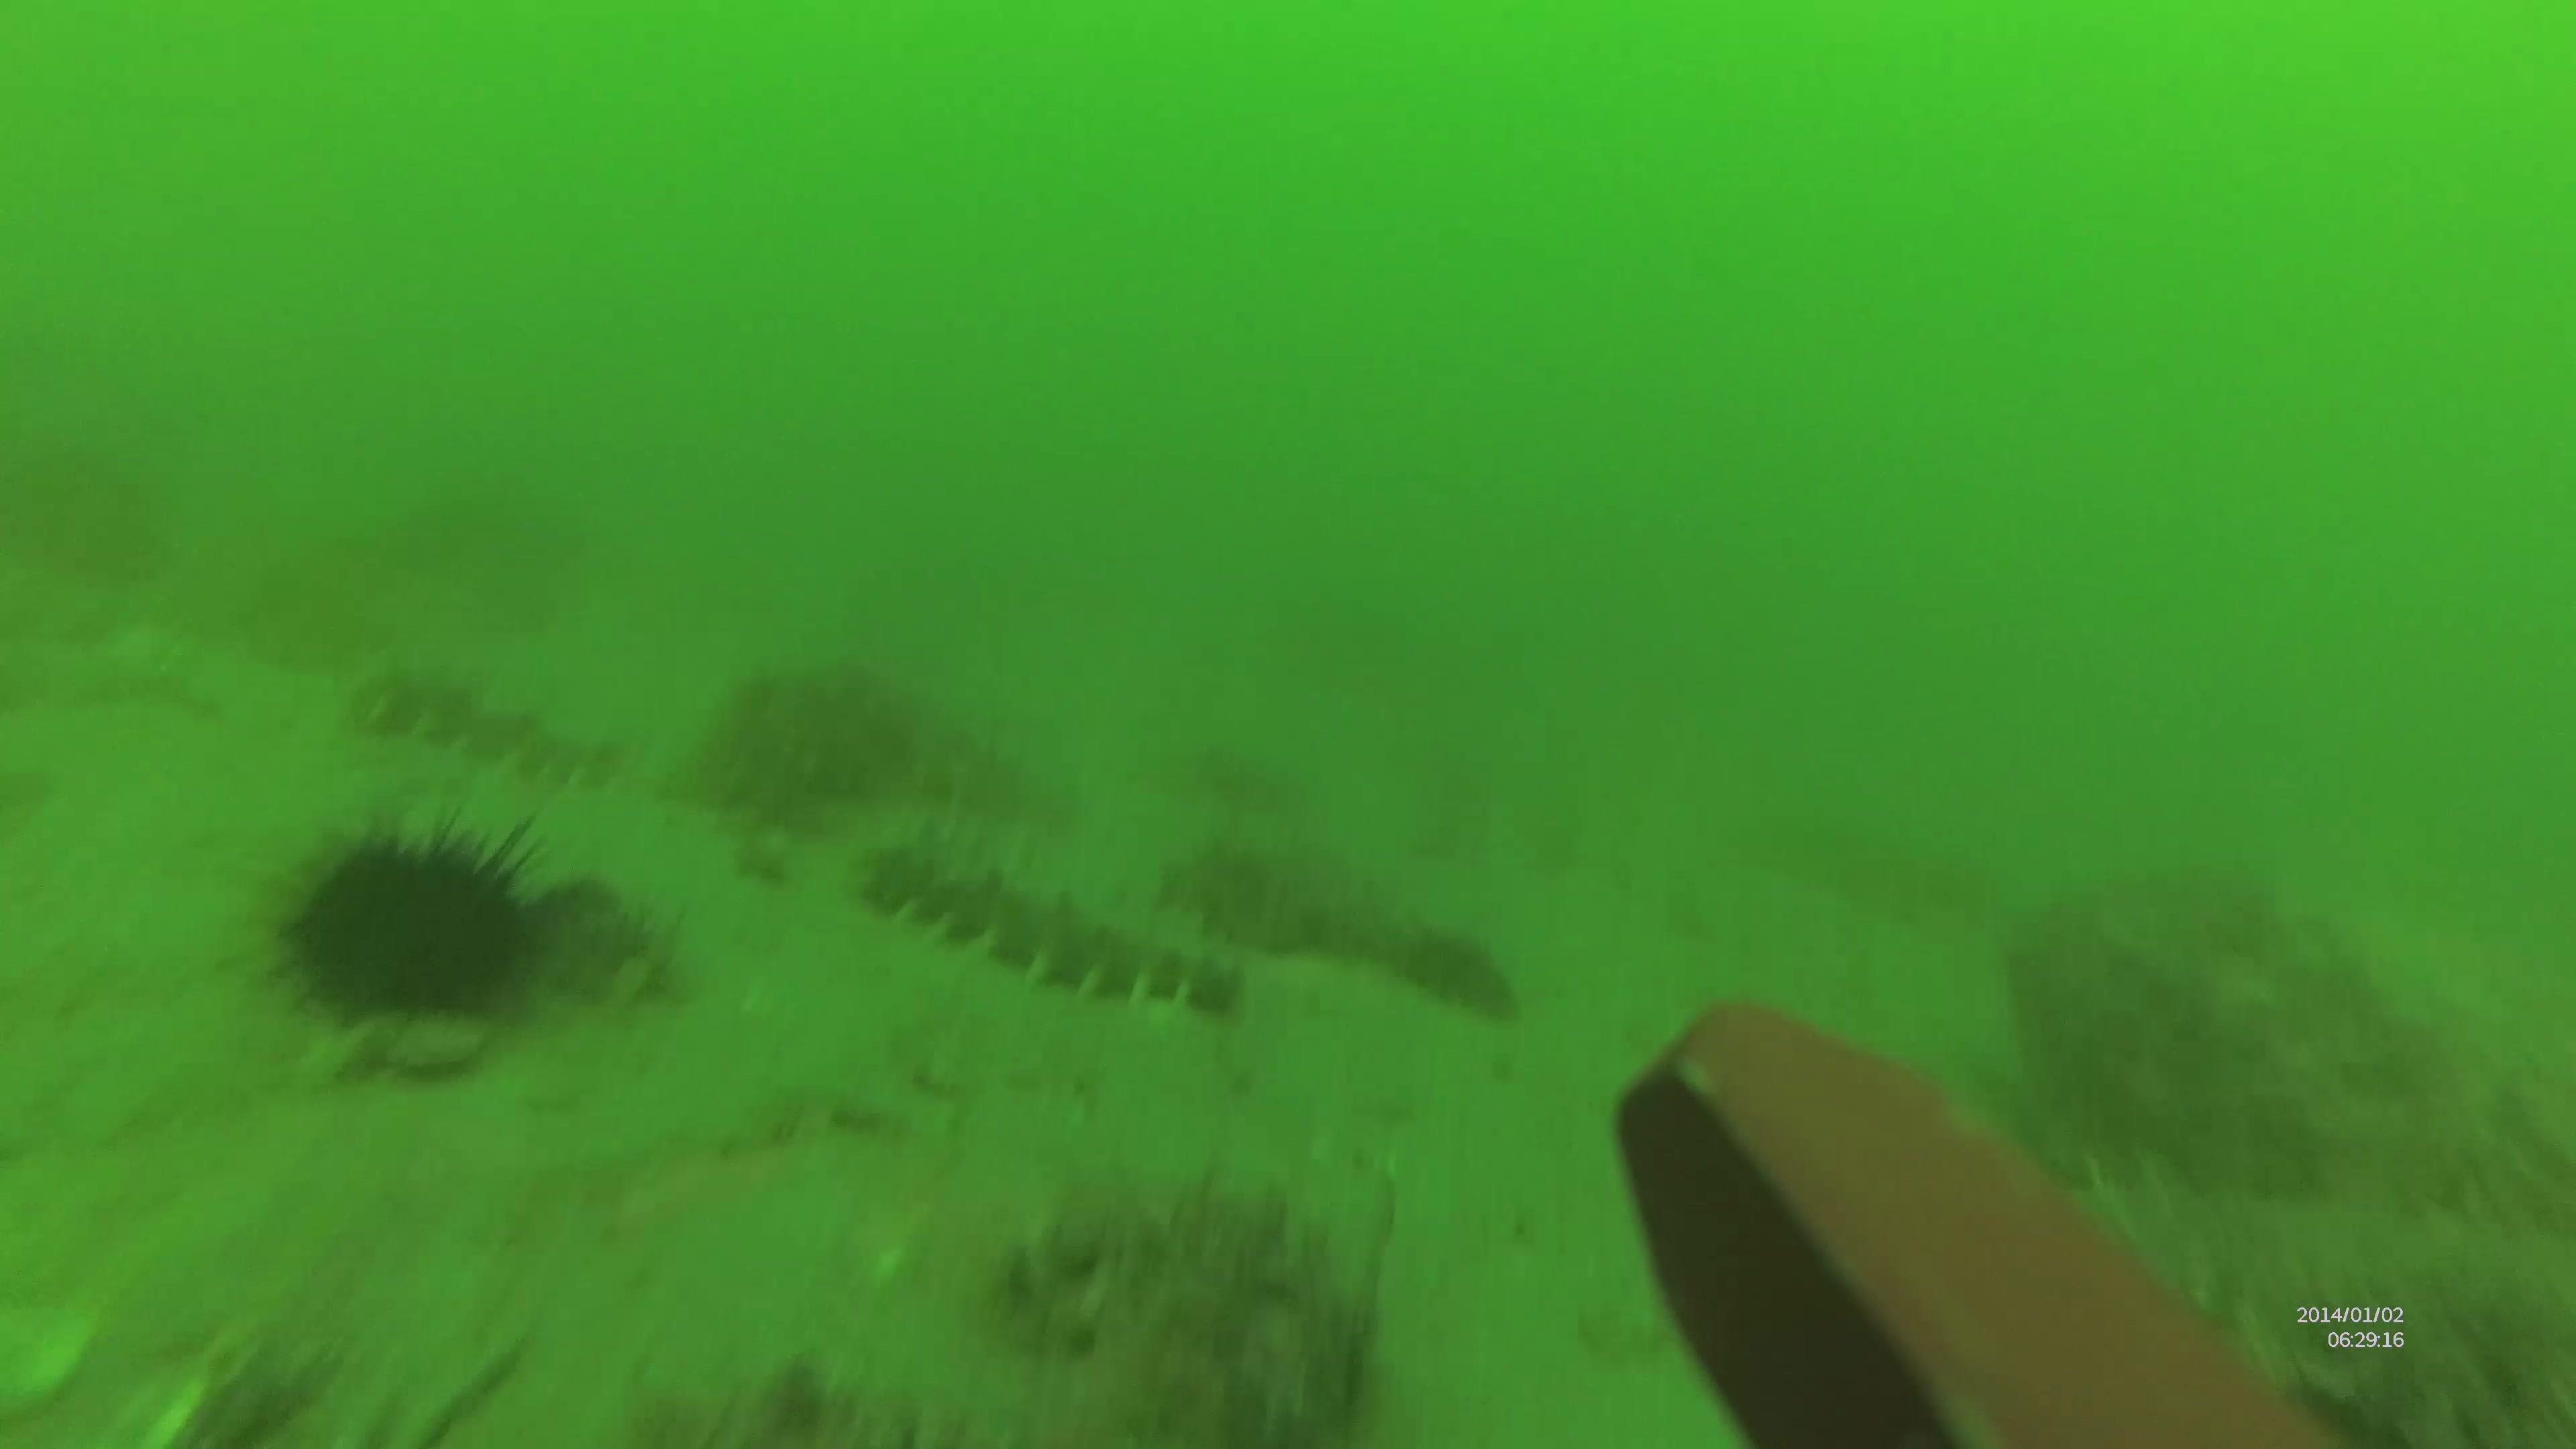echinus: (260, 809, 548, 1033)
holothurian: (865, 816, 1249, 1017), (347, 658, 653, 798)
